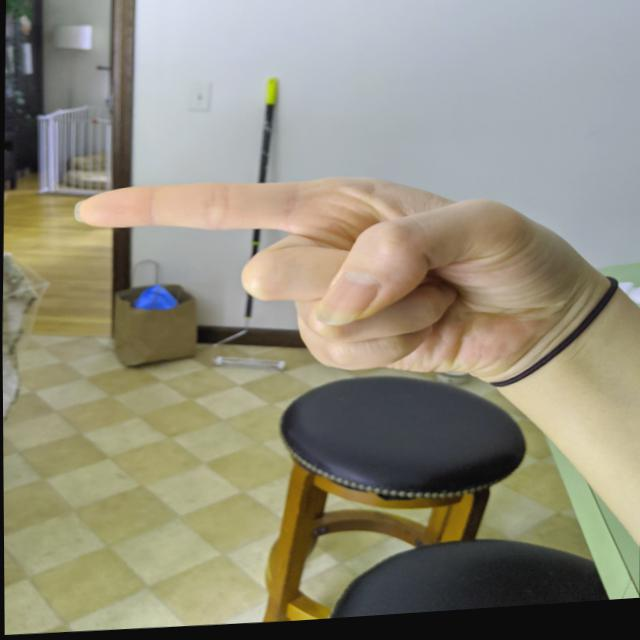G: (60, 156, 575, 413)
